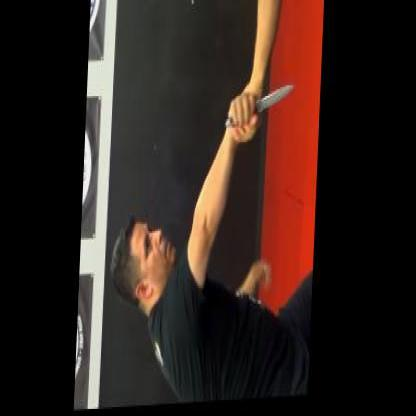knife: (224, 82, 298, 140)
